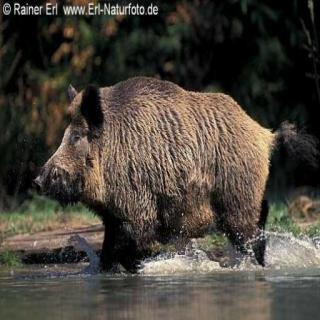Pig: (34, 46, 312, 282)
